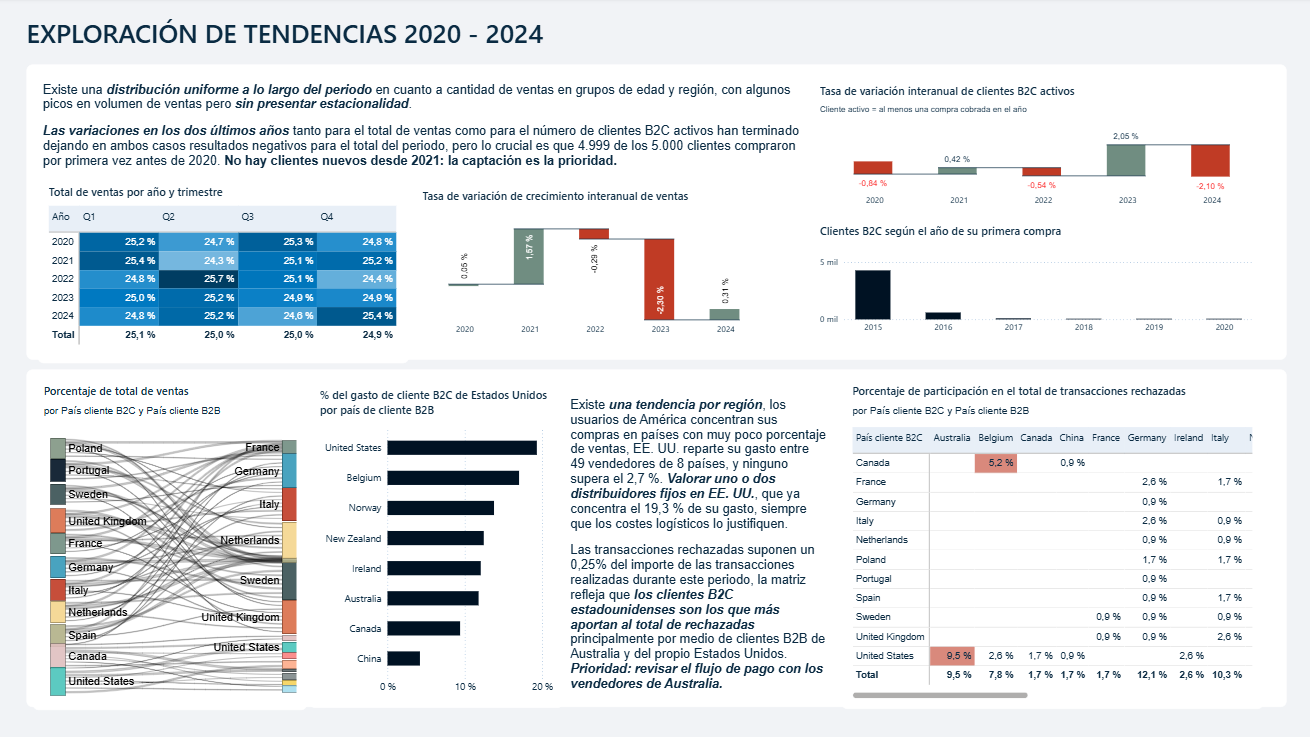

This screenshot's page, from the dashboard's own definition file:
{"tool":"powerbi","page":{"name":"Tendencias 2020 - 2024","canvas":[1920,1080],"ordinal":4},"visuals":[{"type":"textbox","title":"Título","box":[47,27,1200,70],"z":0},{"type":"shape","box":[47.2,98.1,1830.3,428.5],"z":0,"group":"g2"},{"type":"shape","box":[47.2,544.7,1830.3,510.4],"z":0,"group":"g1"},{"type":"pivotTable","title":"Total de ventas por año y trimestre","fields":{"Columns":["calendar.Quarter"],"Rows":["calendar.year"],"Values":["#Tabla de medidas.% trimestre sobre año"]},"box":[68.6,255.8,539.3,265.1],"z":1000,"group":"g2"},{"type":"group","id":"g1","title":"Bloque 2","box":[47.2,544.7,1830.3,517.5],"z":1000},{"type":"pivotTable","title":"Porcentaje de participación en el total de transacciones rechazadas","fields":{"Columns":["company.country"],"Rows":["user.country"],"Values":["#Tabla de medidas.% sobre total de rechazos"]},"box":[1250.1,552.8,612.5,509.4],"z":1000,"group":"g1"},{"type":"group","id":"g2","title":"Bloque 1","box":[47.2,98.1,1830.3,428.5],"z":2000},{"type":"waterfallChart","title":"Tasa de variación de crecimiento interanual de ventas","fields":{"Category":["calendar.year","calendar.month"],"Y":["#Tabla de medidas.%_Crecimiento_YoY"]},"box":[606.1,260.8,533.3,250],"z":2000,"group":"g2"},{"type":"SankeyDiagram1446463184954","title":"Porcentaje de total de ventas","fields":{"Source":["user.country"],"Destination":["company.country"],"Weight":["Count(transaction.id)"]},"box":[57.1,544.6,398.2,491.1],"z":3000},{"type":"textbox","box":[857.9,559.7,365,486.6],"z":3000,"group":"g1"},{"type":"waterfallChart","title":"Tasa de variación interanual de clientes B2C activos","fields":{"Category":["calendar.year"],"Y":["#Tabla de medidas.%_Crecimiento_usuarios_YoY"]},"box":[1184.3,108.6,680.4,214.3],"z":4000,"group":"g2"},{"type":"columnChart","title":"Clientes B2C según el año de su primera compra","fields":{"Category":["user.Año primera compra"],"Y":["CountNonNull(user.id)"]},"box":[1183.9,312.5,658.9,196.4],"z":4000},{"type":"textbox","box":[70.4,123.3,1100.3,148.9],"z":5000,"group":"g2"},{"type":"clusteredBarChart","title":"% del gasto de cliente B2C de Estados Unidos por país de cliente B2B","fields":{"Category":["company.country"],"Y":["#Tabla de medidas.% del gasto del país cliente"]},"box":[457.1,550,369.6,482.1],"z":5000}]}

Visuals, with their boxes in screenshot pixels (x1, y1, x2, y2), scaled from the page's 1920x1080 canvas onto the 1310x737 screenshot:
"Título" textbox: (left=32, top=18, right=851, bottom=66)
shape: (left=32, top=67, right=1281, bottom=359)
shape: (left=32, top=372, right=1281, bottom=720)
"Total de ventas por año y trimestre" pivotTable: (left=47, top=175, right=415, bottom=355)
"Bloque 2" group: (left=32, top=372, right=1281, bottom=725)
"Porcentaje de participación en el total de transacciones rechazadas" pivotTable: (left=853, top=377, right=1271, bottom=725)
"Bloque 1" group: (left=32, top=67, right=1281, bottom=359)
"Tasa de variación de crecimiento interanual de ventas" waterfallChart: (left=414, top=178, right=777, bottom=349)
"Porcentaje de total de ventas" SankeyDiagram1446463184954: (left=39, top=372, right=311, bottom=707)
textbox: (left=585, top=382, right=834, bottom=714)
"Tasa de variación interanual de clientes B2C activos" waterfallChart: (left=808, top=74, right=1272, bottom=220)
"Clientes B2C según el año de su primera compra" columnChart: (left=808, top=213, right=1257, bottom=347)
textbox: (left=48, top=84, right=799, bottom=186)
"% del gasto de cliente B2C de Estados Unidos por país de cliente B2B" clusteredBarChart: (left=312, top=375, right=564, bottom=704)
